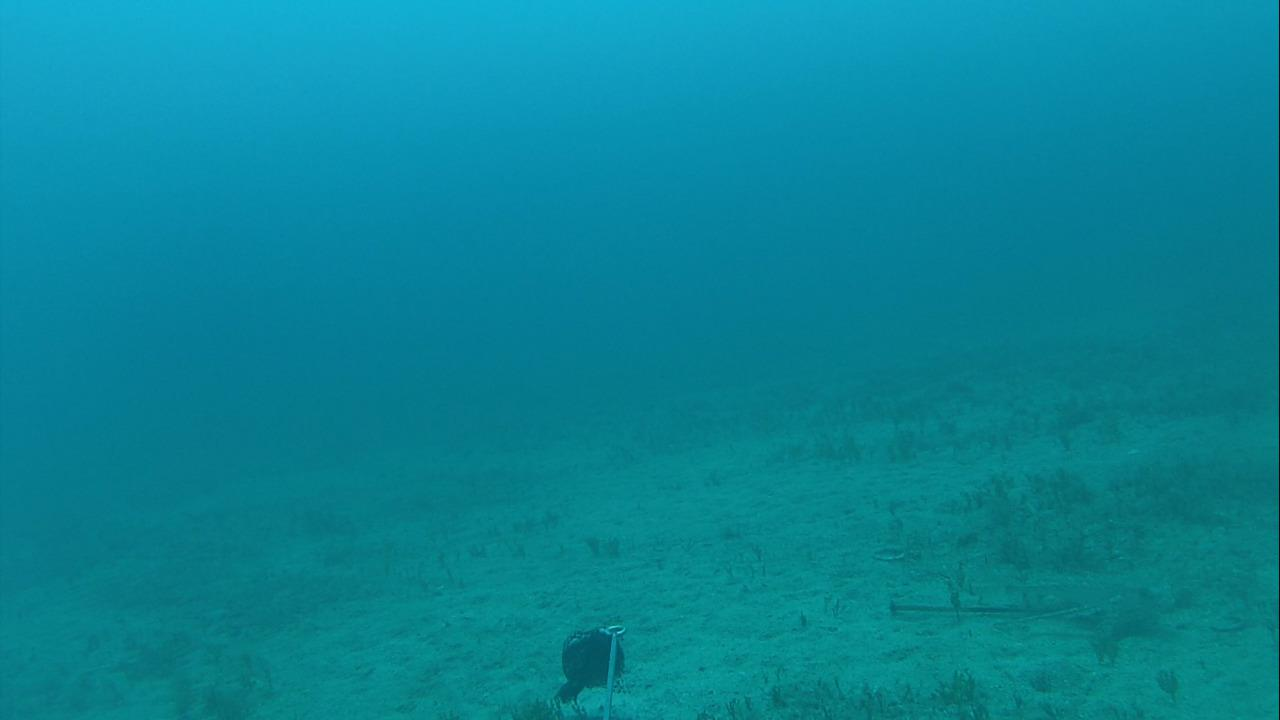dactylopterus: (887, 546, 1196, 670)
